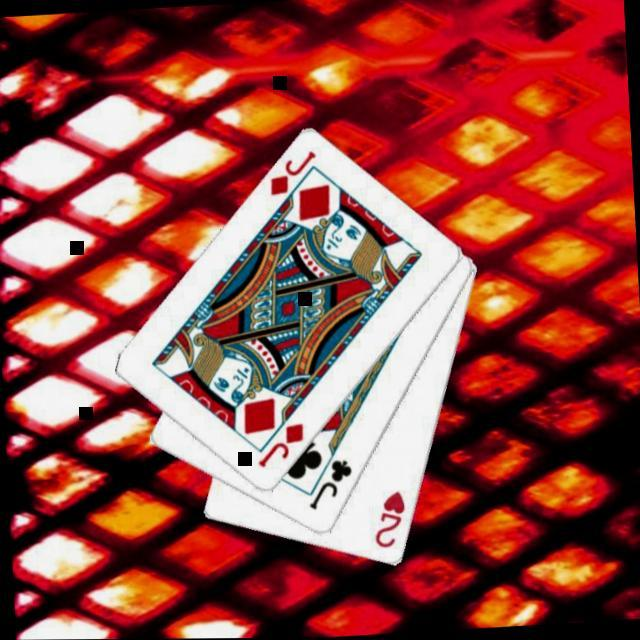2H: (369, 488, 410, 552)
JC: (304, 457, 356, 514)
JD: (252, 422, 308, 474), (264, 150, 320, 202)
